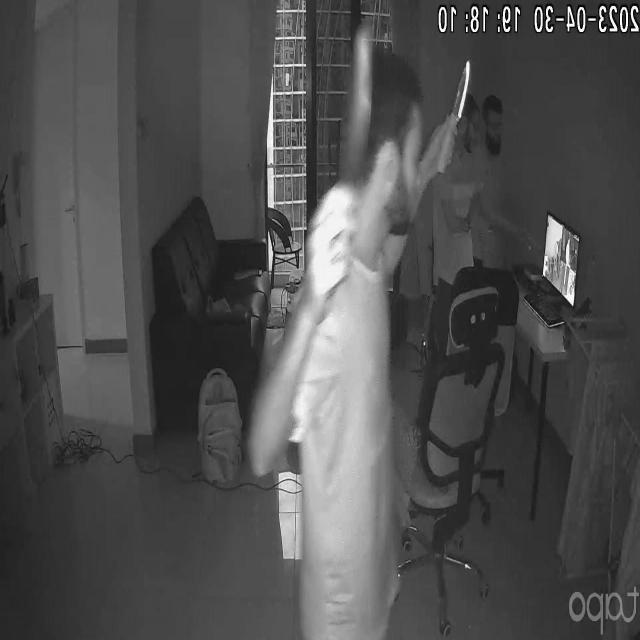Knife: (338, 23, 380, 239), (436, 57, 484, 175)
